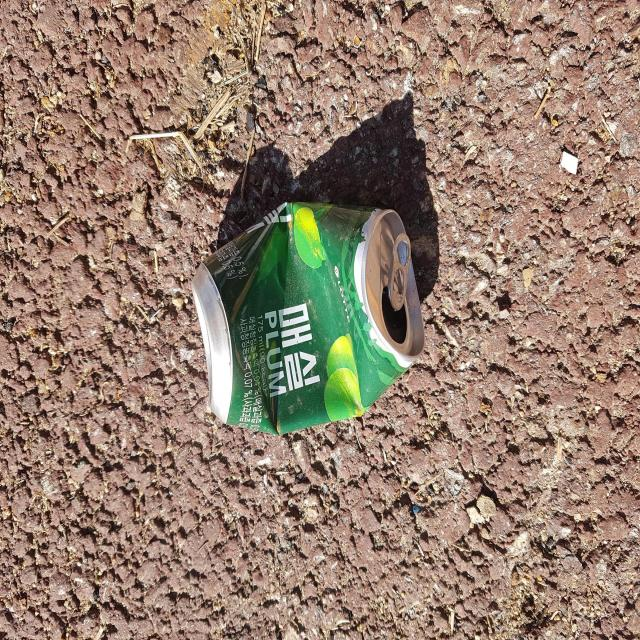can: (192, 202, 425, 434)
